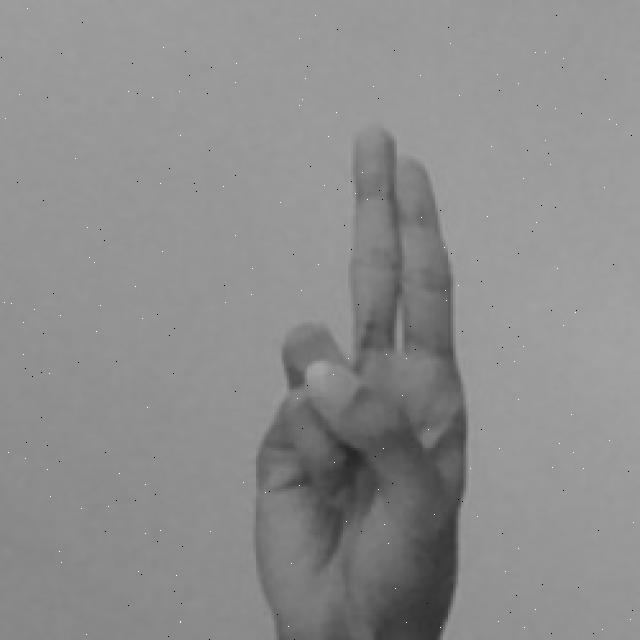U: (245, 120, 476, 640)
